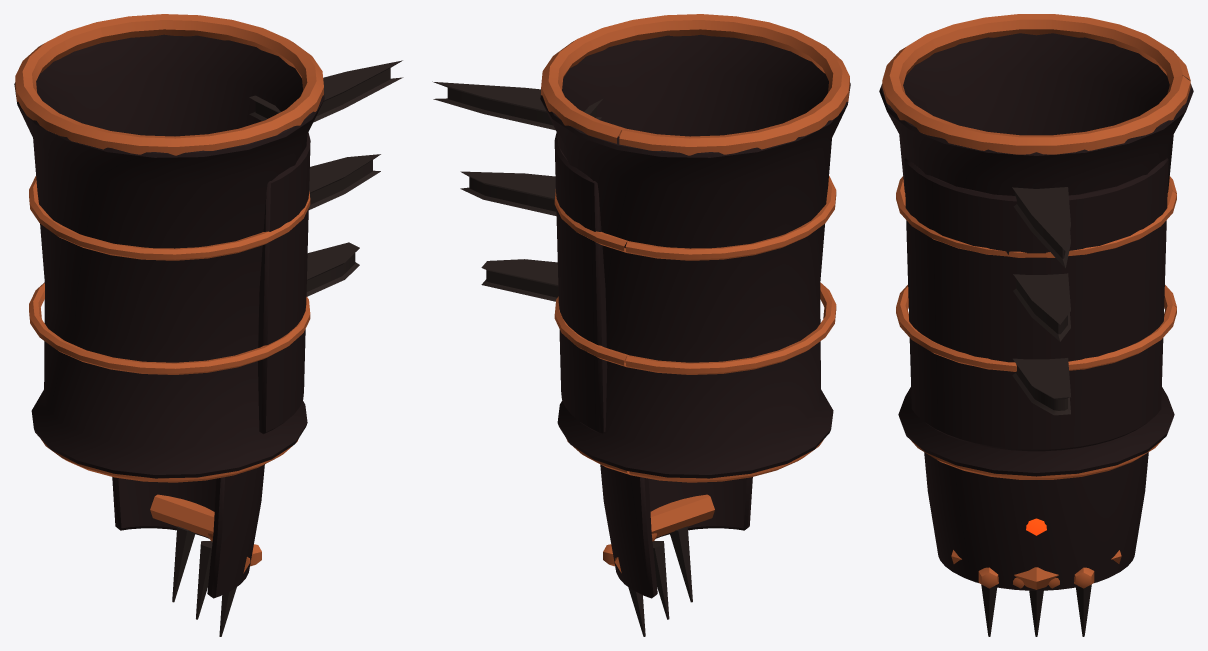
File: asc_firstflame_warlord_gloves.glb
The picture shows the model from 3 angles, left to right: view 1: azimuth 30°, elevation 25°; view 2: azimuth 150°, elevation 25°; view 3: azimuth 270°, elevation 25°; orthographic projection.
Visible parts, largest first — view 1: asc_firstflame_warlord_gloves, AT_hand_L; view 2: asc_firstflame_warlord_gloves, AT_hand_L; view 3: asc_firstflame_warlord_gloves, AT_hand_L.
Boxes of the visible parts, bbox=[...] form: asc_firstflame_warlord_gloves: bbox=[14, 14, 403, 482]; AT_hand_L: bbox=[112, 464, 264, 636]; asc_firstflame_warlord_gloves: bbox=[432, 14, 850, 482]; AT_hand_L: bbox=[600, 464, 752, 636]; asc_firstflame_warlord_gloves: bbox=[879, 14, 1193, 479]; AT_hand_L: bbox=[924, 452, 1148, 636].
Size of the model in its own units: 0.2808 by 0.385 by 0.2004.
